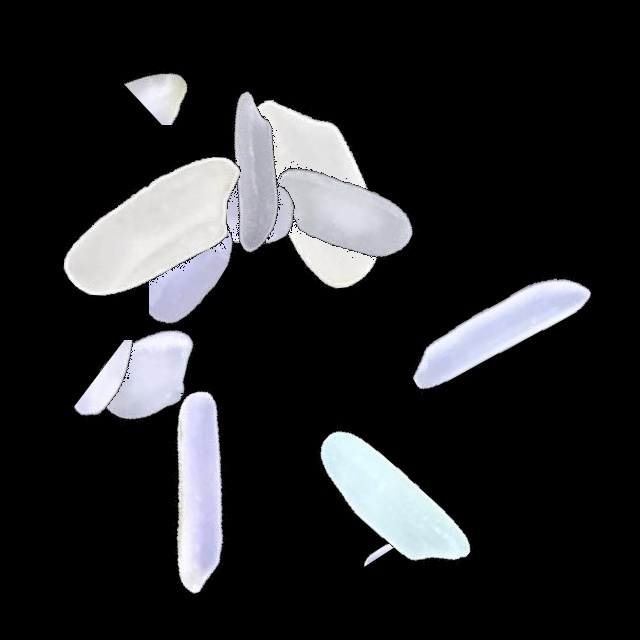Broken: (149, 169, 301, 419), (62, 8, 312, 125), (26, 340, 276, 449), (364, 343, 471, 593), (109, 209, 359, 300), (55, 161, 305, 237)
Full: (190, 69, 440, 319), (216, 87, 466, 337), (111, 84, 361, 334), (122, 46, 372, 296), (26, 251, 276, 501), (264, 378, 514, 628), (74, 365, 324, 615), (373, 202, 623, 452), (27, 102, 277, 352)
